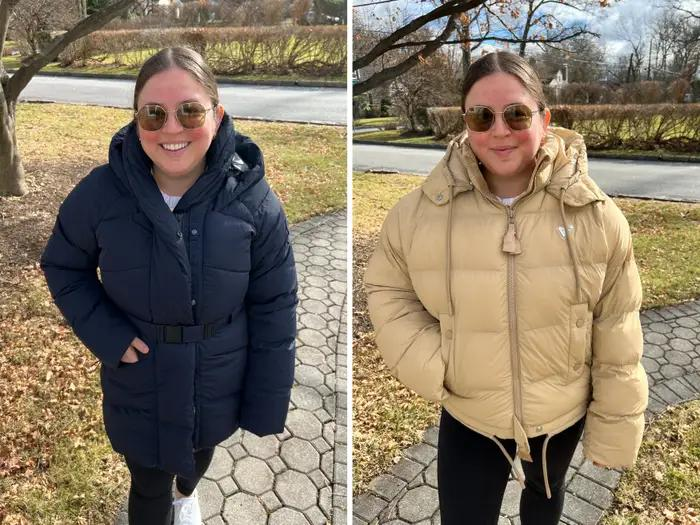coat: (358, 125, 649, 470), (39, 113, 300, 476)
trousers: (433, 401, 587, 525), (124, 445, 218, 525)
